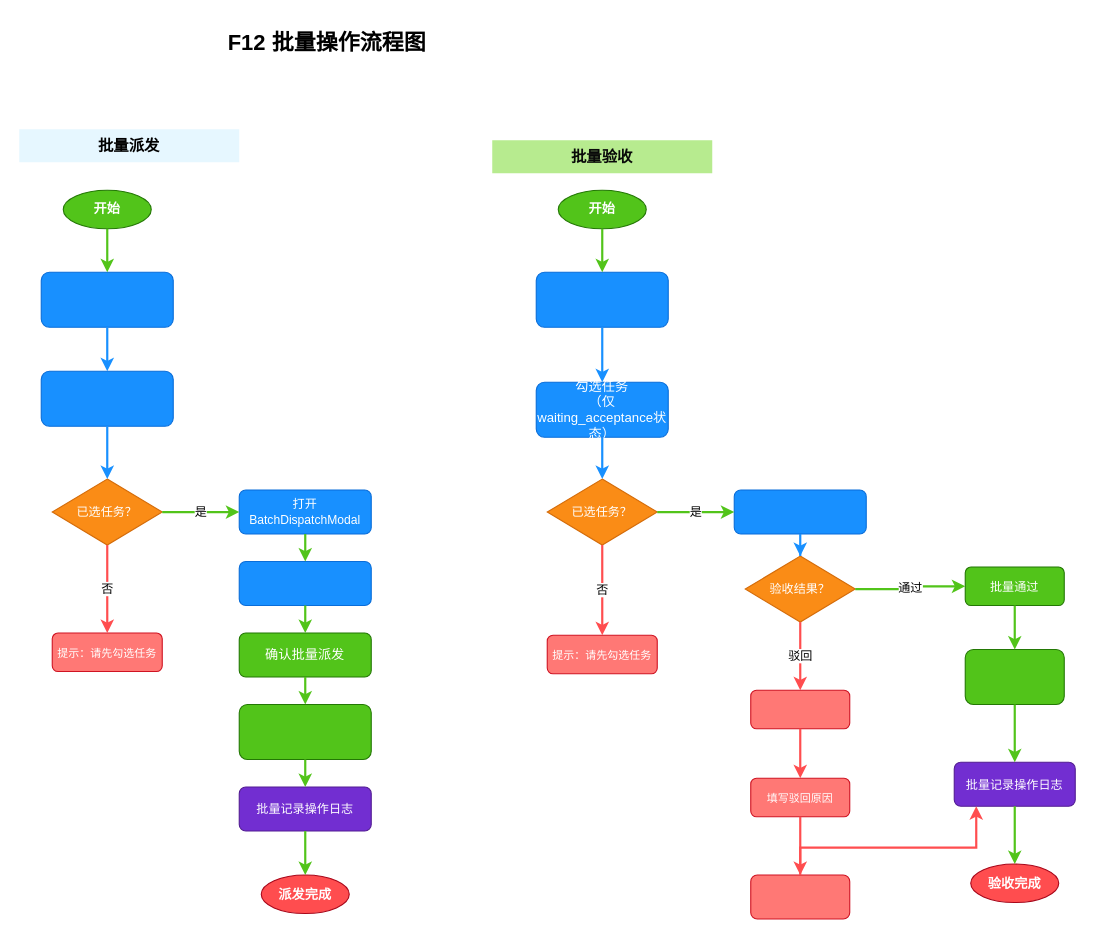
This 1095x938 diagram has some shape labels left out. Each missing label, with the centre of its shape:
"TaskTab点击 【批量派发】" goes at [106,299].
"TaskTab点击 【批量验收】" goes at [601,299].
"勾选任务 （仅draft/rejected状态）" goes at [106,398].
"打开BatchAcceptModal" goes at [799,511].
"批量更新状态 draft/rejected → pending" goes at [304,731].
"批量驳回" goes at [800,709].
"状态→completed 自动创建WorkLog" goes at [1014,676].
"状态→rejected/failed" goes at [800,896].
"选择执行人" goes at [304,583].
